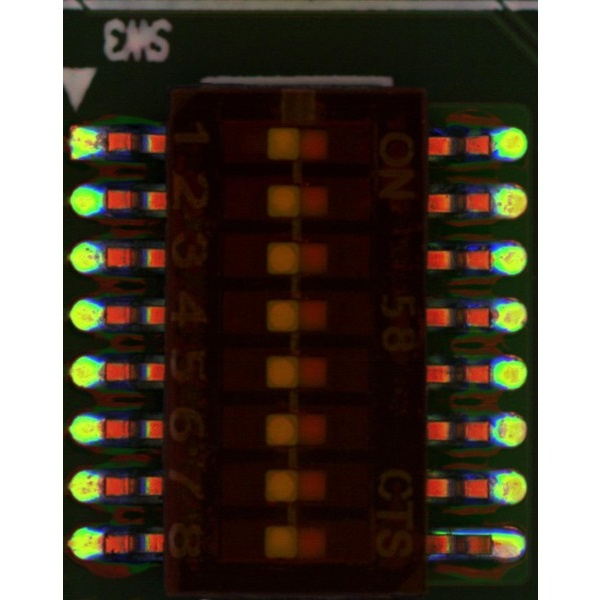Bad_podu: (481, 538, 503, 554)
Bad_qiaojiao: (432, 529, 489, 537)
